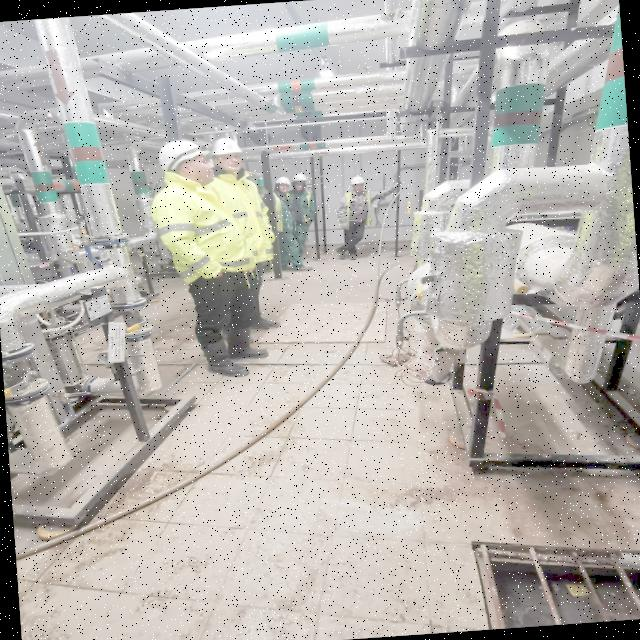Helmet: (156, 140, 212, 174), (211, 137, 245, 162), (291, 174, 309, 185), (275, 177, 291, 189), (351, 176, 367, 187)
Jacket: (159, 177, 227, 280), (213, 165, 267, 263), (271, 191, 300, 234), (343, 187, 372, 230), (293, 187, 314, 225)
